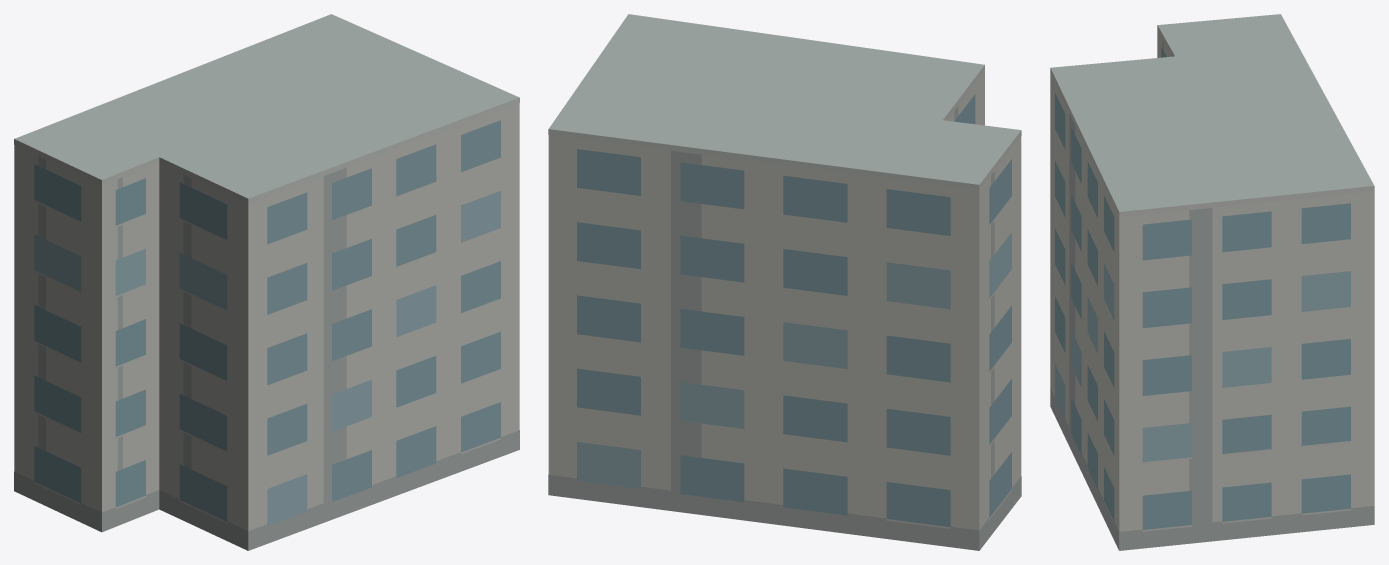
The model's file is residential-44740e04-1365-4de0-807e-fff49ddfc68c.glb.
3 renders of one model, left to right at view 1: azimuth 30°, elevation 25°; view 2: azimuth 150°, elevation 25°; view 3: azimuth 270°, elevation 25°, orthographic. The views are drawn at different scales.
Visible parts, largest first — view 1: residential-44740e04-1365-4de0-807e-fff49ddfc68c.tmp; view 2: residential-44740e04-1365-4de0-807e-fff49ddfc68c.tmp; view 3: residential-44740e04-1365-4de0-807e-fff49ddfc68c.tmp.
Part boxes in pixels (x1,y1,x2,y2): residential-44740e04-1365-4de0-807e-fff49ddfc68c.tmp: (14,14,519,550); residential-44740e04-1365-4de0-807e-fff49ddfc68c.tmp: (548,14,1021,550); residential-44740e04-1365-4de0-807e-fff49ddfc68c.tmp: (1050,14,1374,550).
Size of the model in its own units: 19.11 by 15.25 by 13.23.
